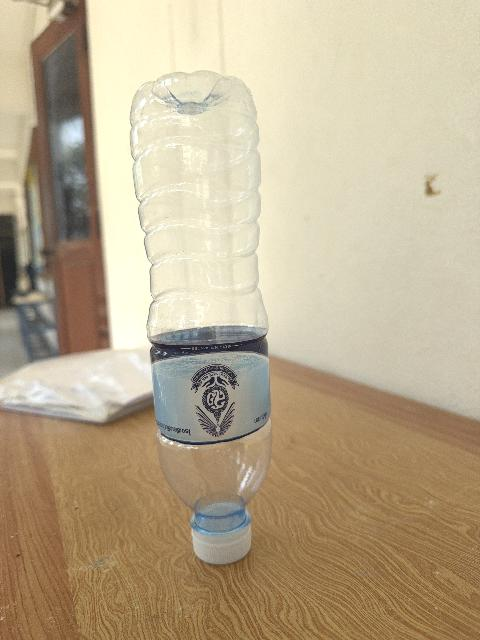bottle: (131, 72, 271, 563)
